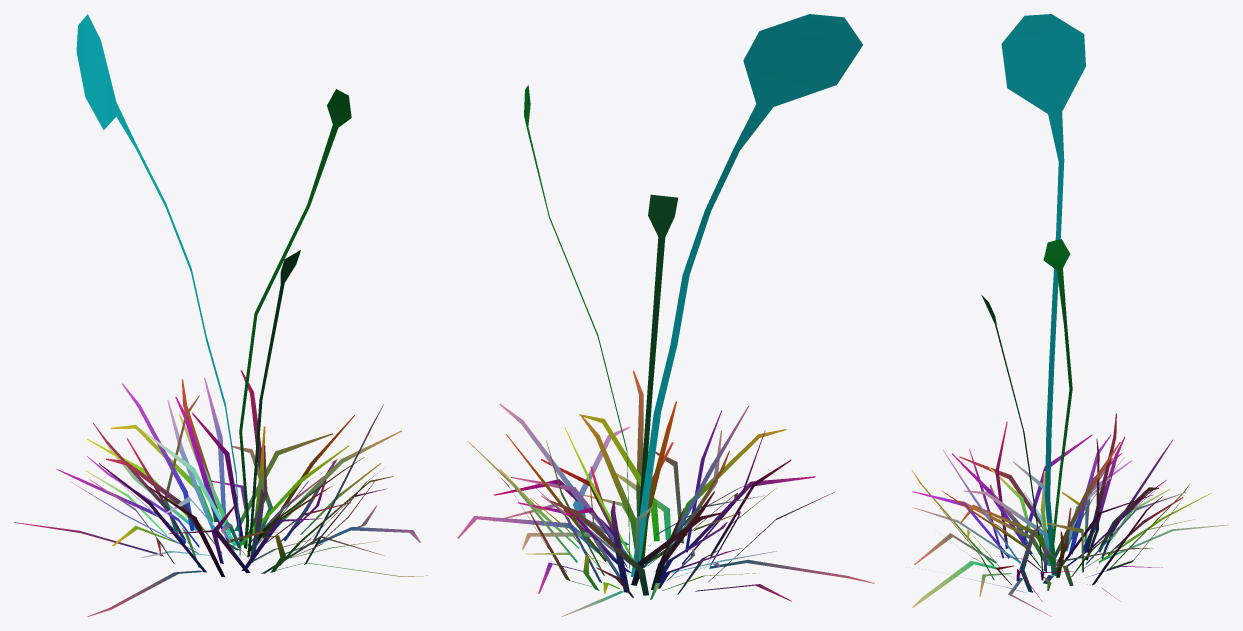
Rendered from Sea_Thrift_vkbgaihha_Mid_vkbgaihha_VarF_LOD2.fbx.
The picture shows the model from 3 angles, left to right: view 1: azimuth 30°, elevation 25°; view 2: azimuth 150°, elevation 25°; view 3: azimuth 270°, elevation 25°; orthographic projection. The views are drawn at different scales.
Visible parts, largest first — view 1: _8607_VarF_LOD3; view 2: _8607_VarF_LOD3; view 3: _8607_VarF_LOD3.
Boxes of the visible parts, x1,y1,x2,y2 form: _8607_VarF_LOD3: (14, 14, 428, 616); _8607_VarF_LOD3: (457, 14, 874, 616); _8607_VarF_LOD3: (909, 14, 1228, 616).
Bounding box in the file's own units: 10.46 × 16.33 × 9.77.
